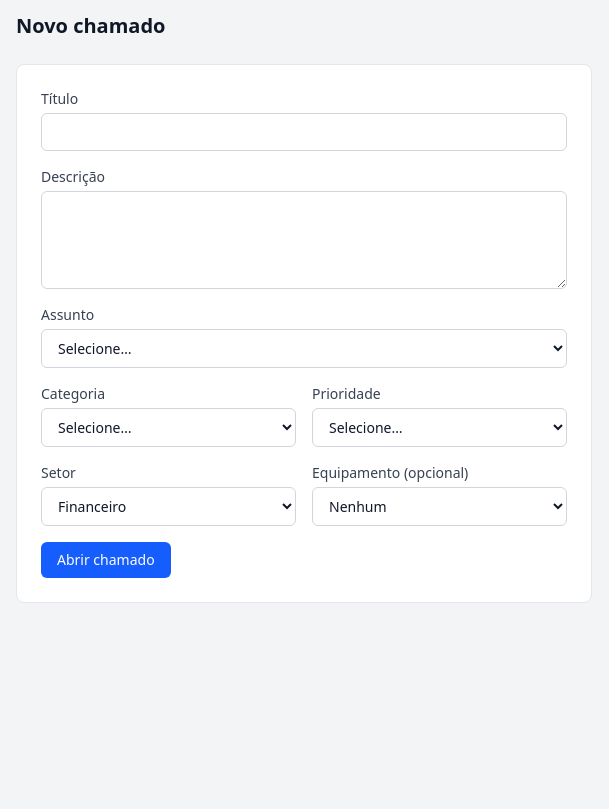
it: NovoTicket: formulário do assunto › mostra os campos do formulário ao escolher o assunto
The image size is (609, 809).
Expected: the dropdown labelled "Setor" shows "Financeiro", left=41, top=487, right=296, bottom=526
Select "Acessos — Novo acesso" in the dropdown labelled "Assunto" at (304, 348), box left=41, top=329, right=567, bottom=368
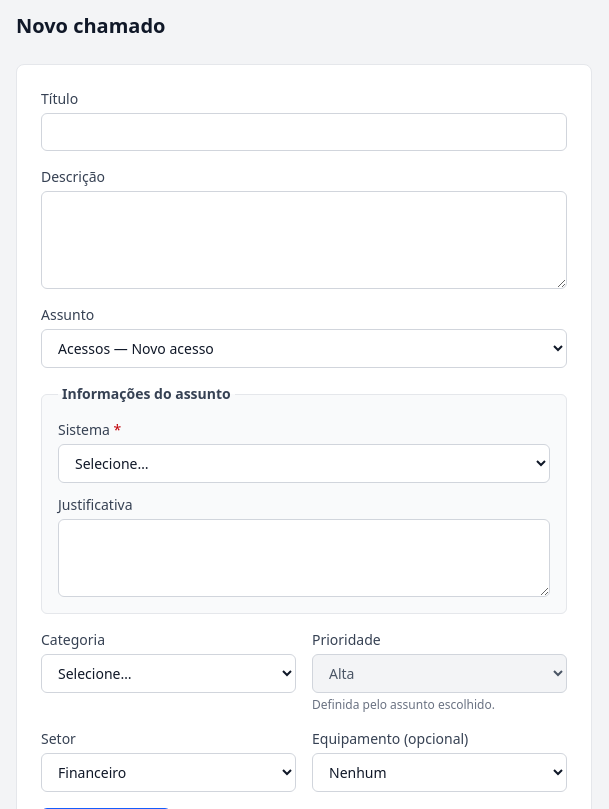
Result: the dropdown labelled "Sistema *" is shown at left=58, top=444, right=550, bottom=483
Result: the text box labelled "Justificativa" is shown at left=58, top=519, right=550, bottom=597
